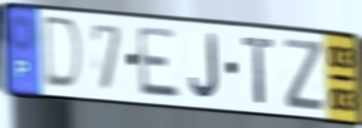7: (89, 21, 123, 94)
D: (42, 13, 86, 95)
E: (134, 24, 183, 101)
J: (188, 32, 222, 102)
T: (241, 35, 277, 107)
Z: (283, 36, 326, 114)
